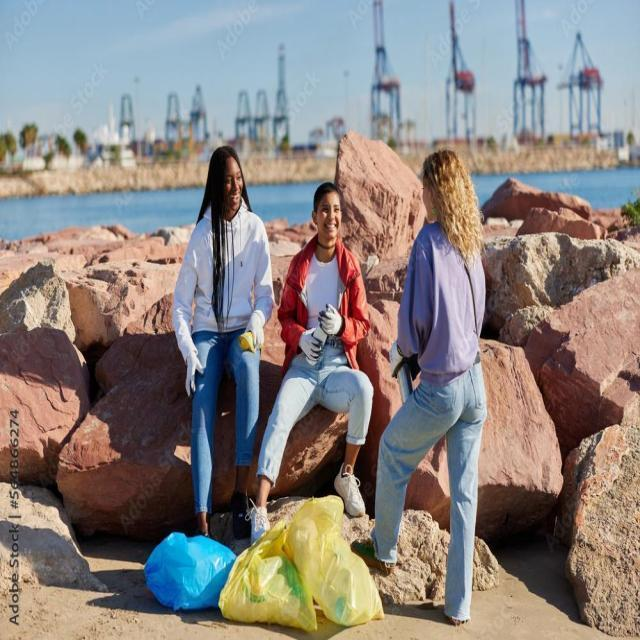Garbage_Bag: (142, 528, 234, 616)
